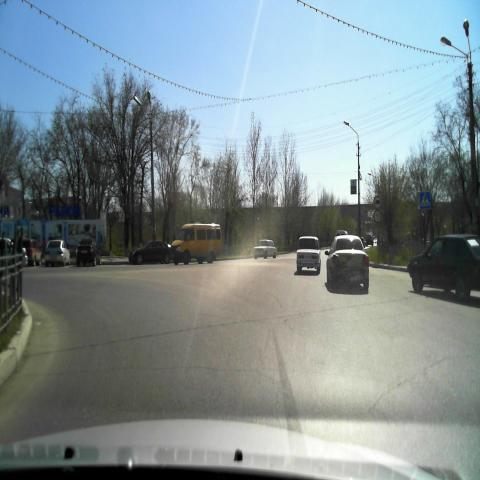3_13: (374, 209, 381, 223)
